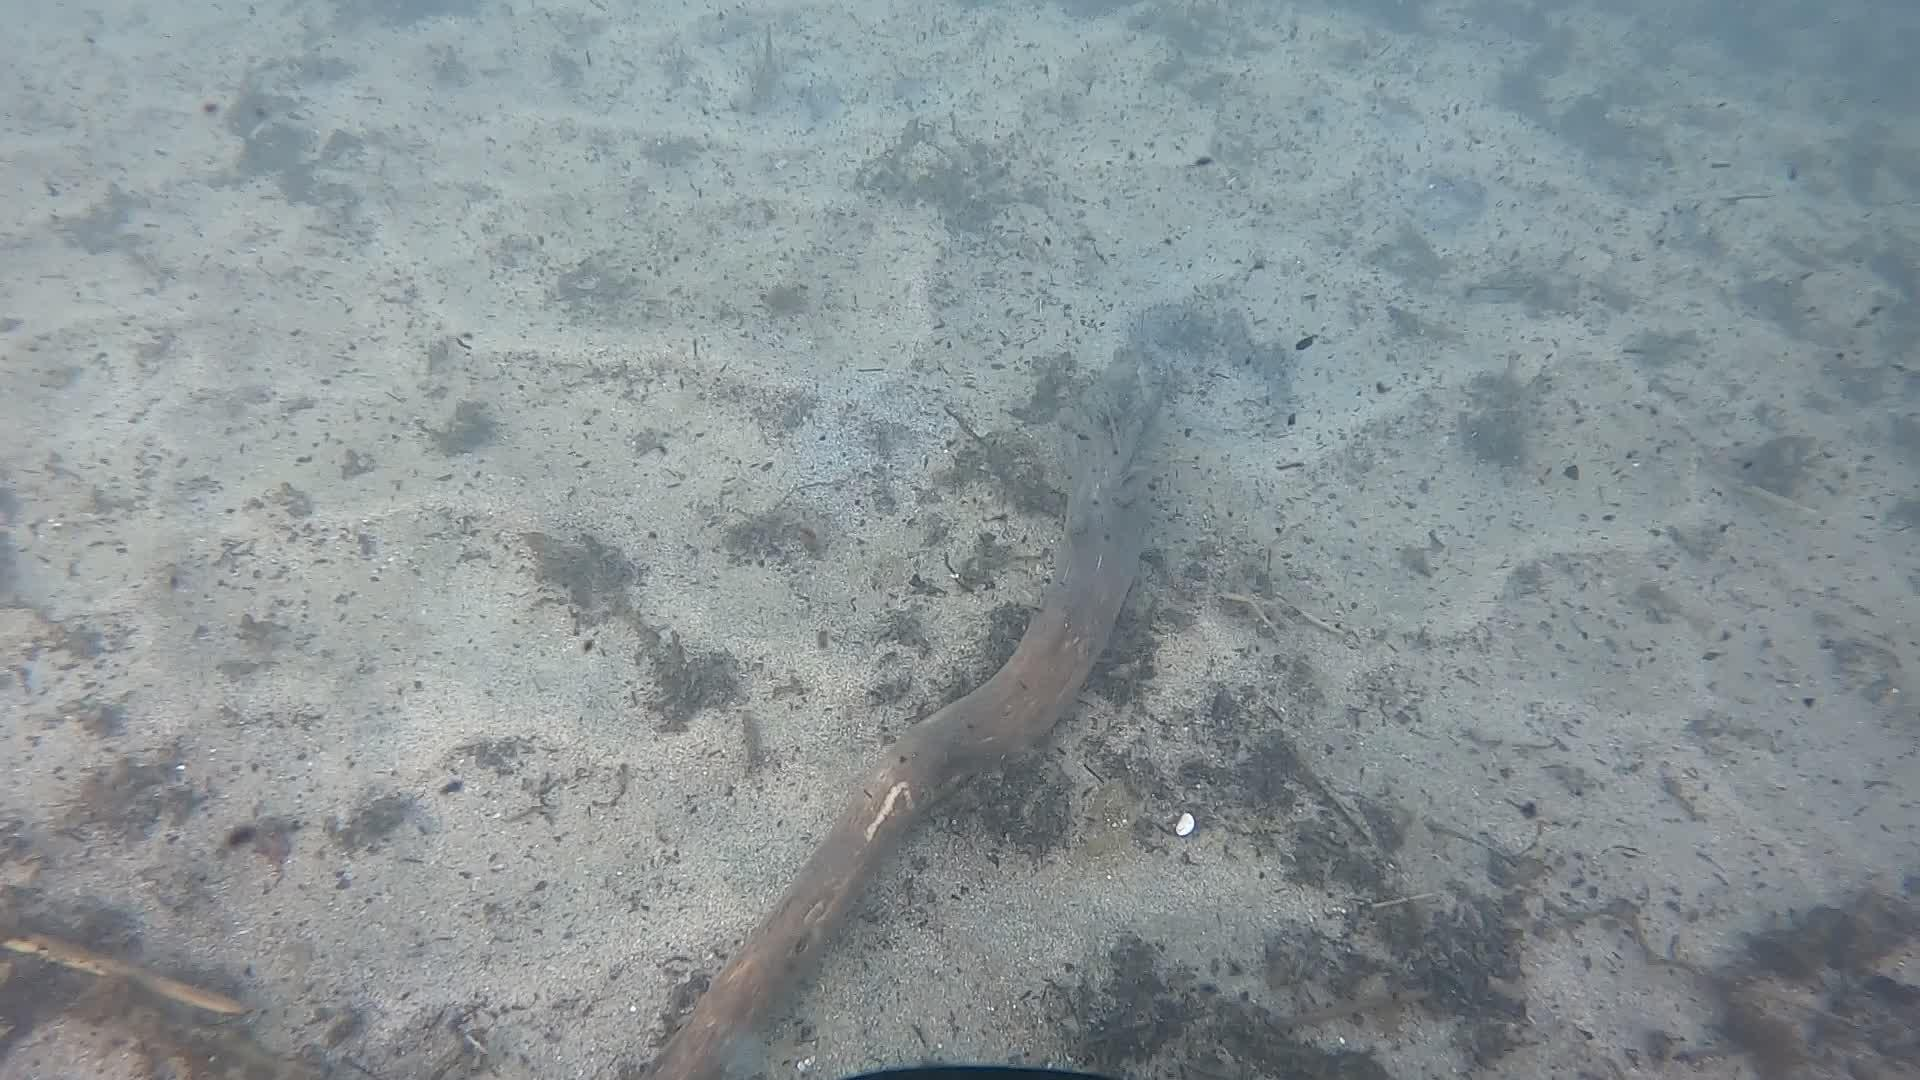wood: (649, 433, 1147, 1080)
